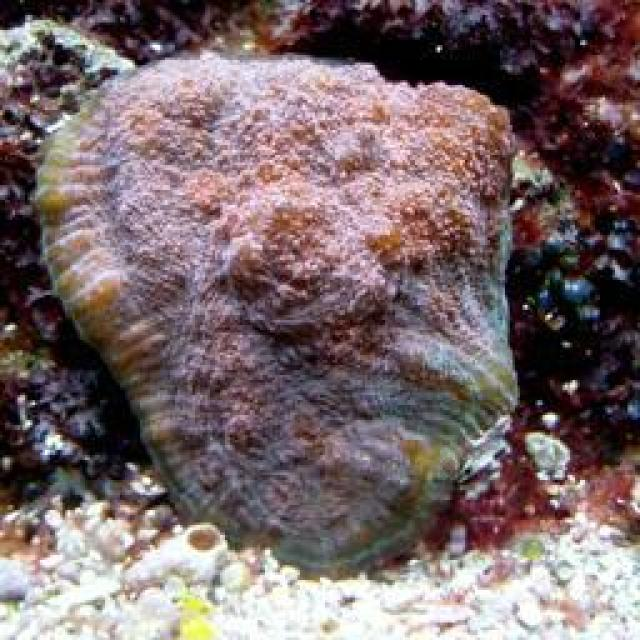reefs: (36, 58, 519, 578), (266, 0, 638, 464), (0, 0, 255, 513)
